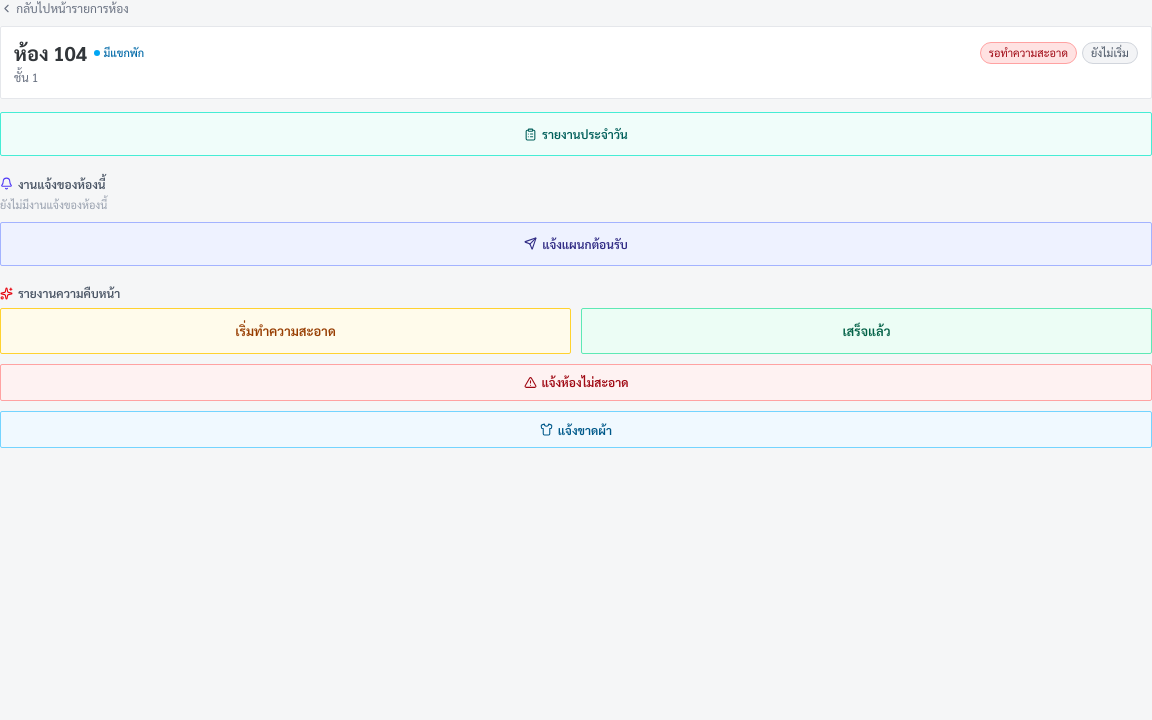
Test: แจ้งขาดผ้า — linen shortage › ส่งแจ้ง is dead until at least one kind is above zero
Expected: the heading "ห้อง 104" is shown, [14, 40, 87, 66]
Click the button "แจ้งขาดผ้า": [576, 430] box [0, 411, 1151, 448]
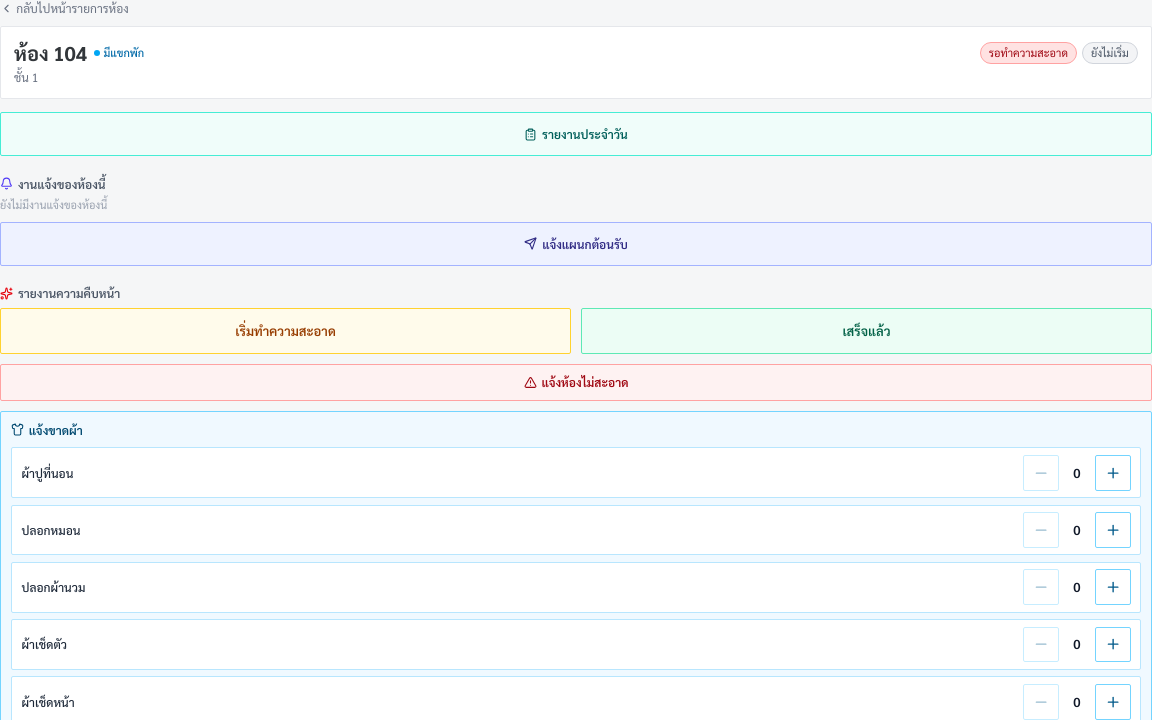
Click the button named "เพิ่ม ผ้าเช็ดตัว": [1113, 644] box [1095, 626, 1131, 662]
(page scrolled)
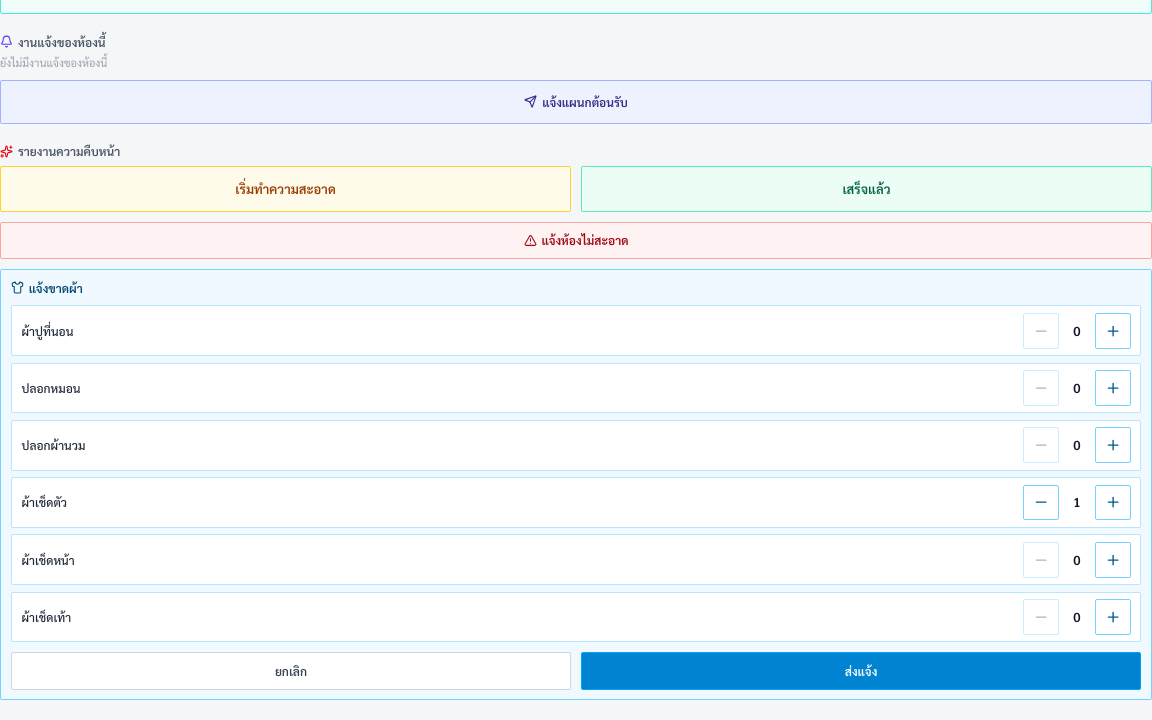
Expected: the button "ส่งแจ้ง" is enabled, [581, 652, 1141, 690]
